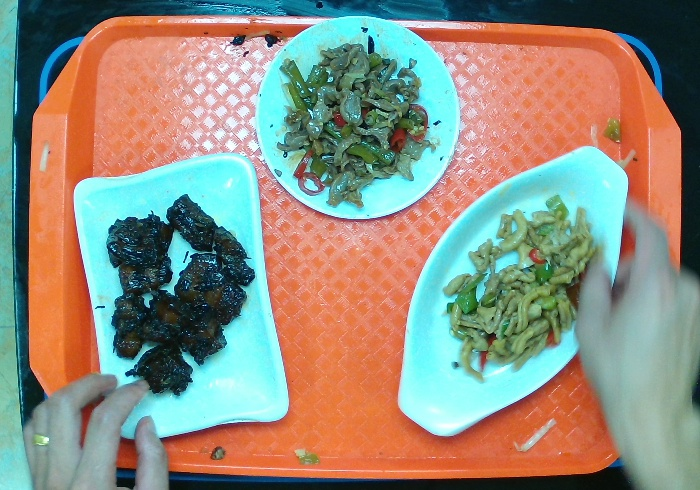RJxy-Si_Fang_Ao_Bian_Wan: (72, 149, 291, 449)
RJxy-Xiao_Yuan_Die: (252, 9, 465, 222)
RJxy-Yu_Pan: (388, 140, 637, 447)
